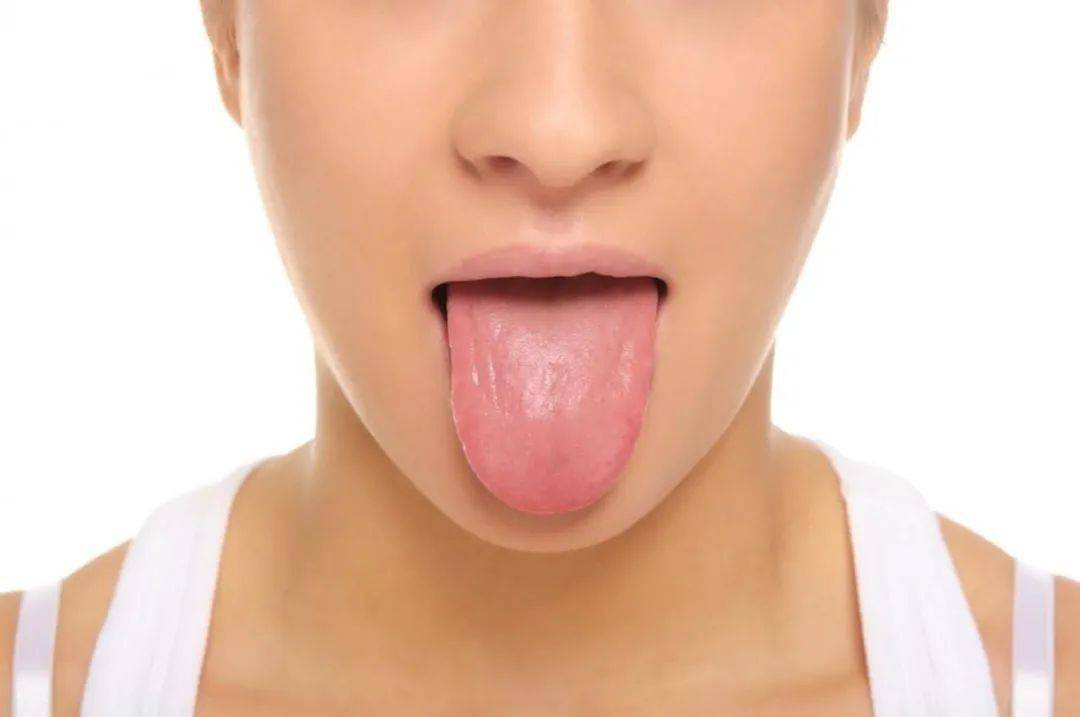jiankangshe: (447, 278, 659, 514)
